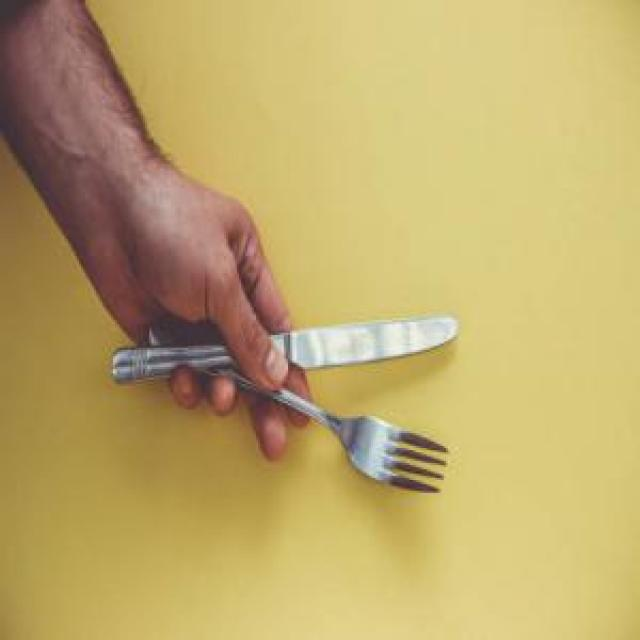knife: (107, 312, 460, 389)
